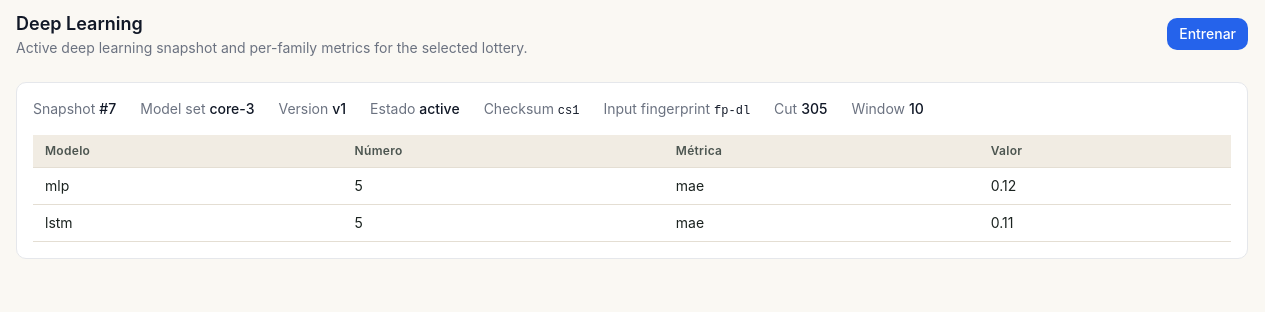
it: DL page › surfaces a failed family row's error text from a 200 train response (R4-S2)
The image size is (1265, 312).
Expected: the table is shown, left=33, top=135, right=1231, bottom=242
Click the button "Entrenar" at [1208, 34], box left=1167, top=18, right=1248, bottom=50
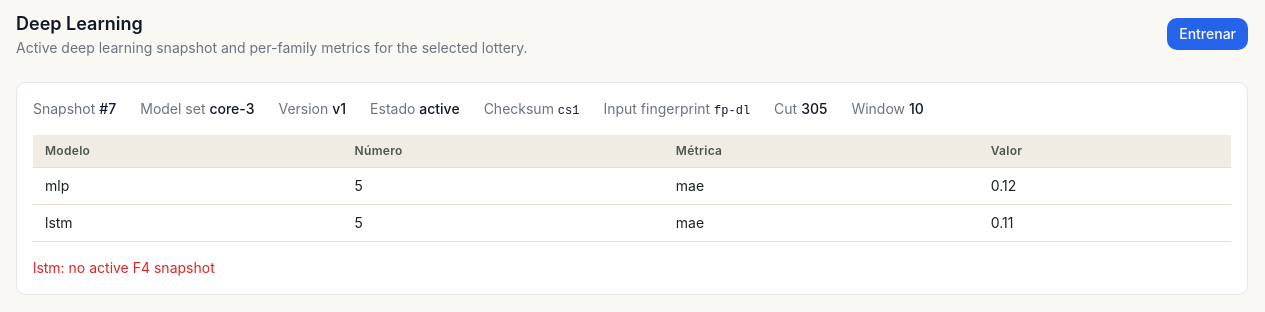
Expected: the text "lstm: no active F4 snapshot" is shown, left=33, top=259, right=215, bottom=276
